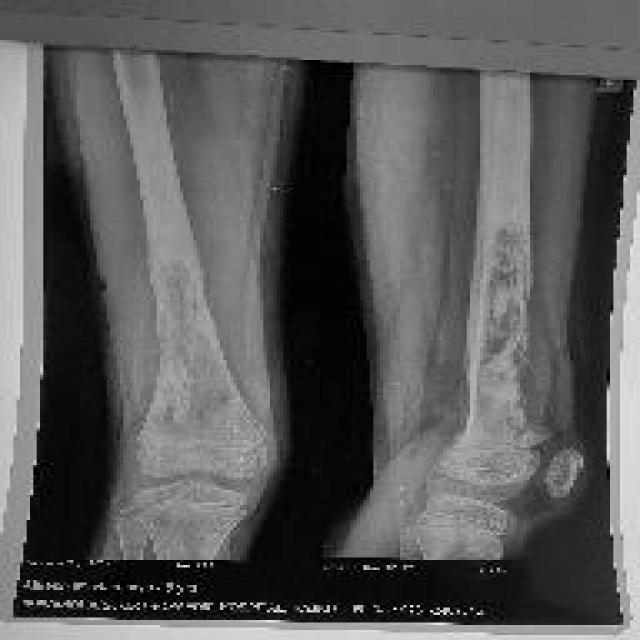bone-cancer: (145, 256, 238, 444), (465, 213, 533, 438)
